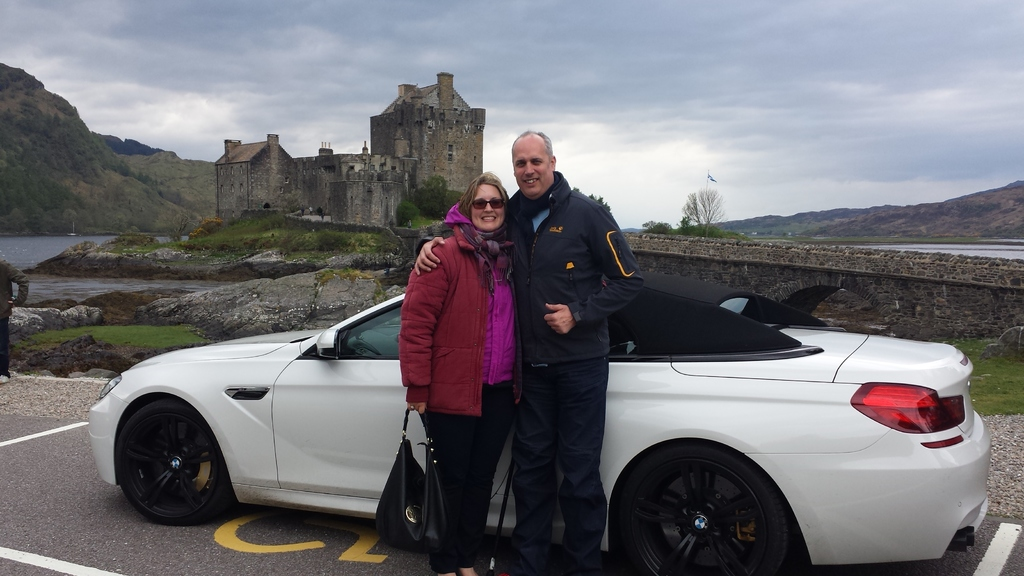cars: (80, 260, 989, 575)
